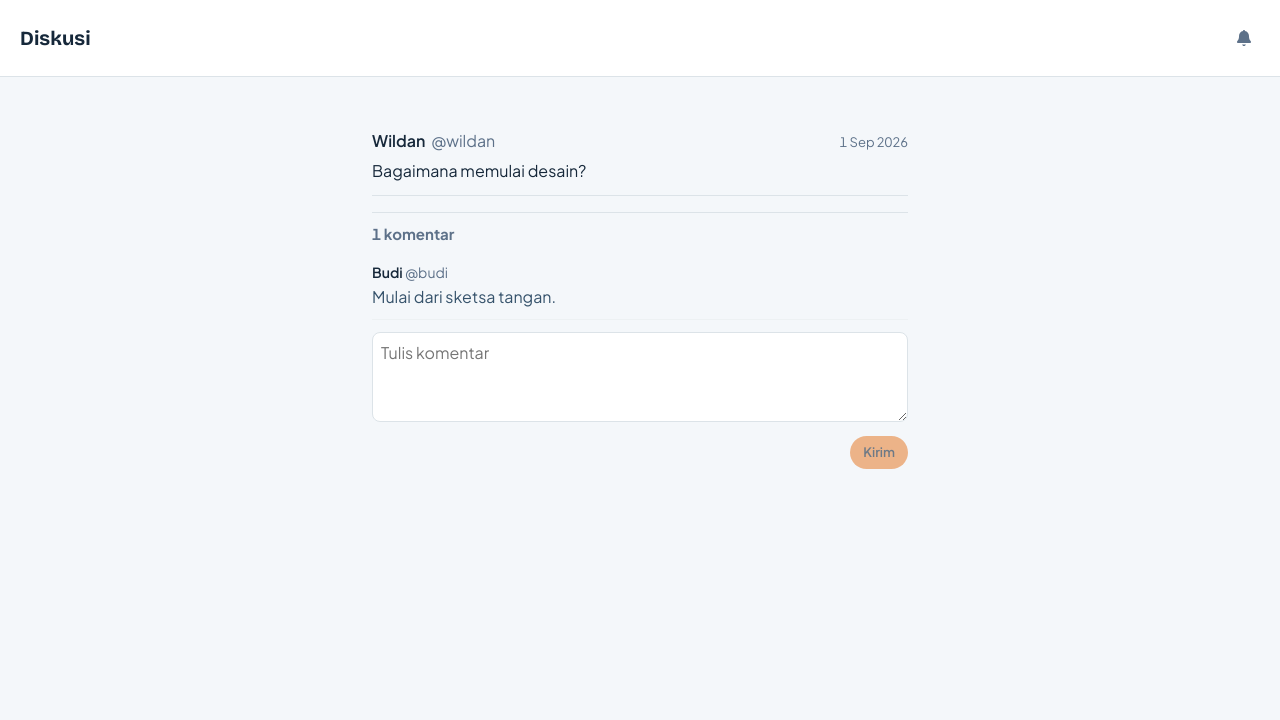
it: DiscussionPage › shows a submitted comment without a refetch
expect the text "Bagaimana memulai desain?" is shown: met, box x1=372 y1=160 x2=586 y2=181
Type "Terima kasih, sangat membantu." into the text box labelled "Tulis komentar" at [640, 377], box x1=372 y1=332 x2=908 y2=422
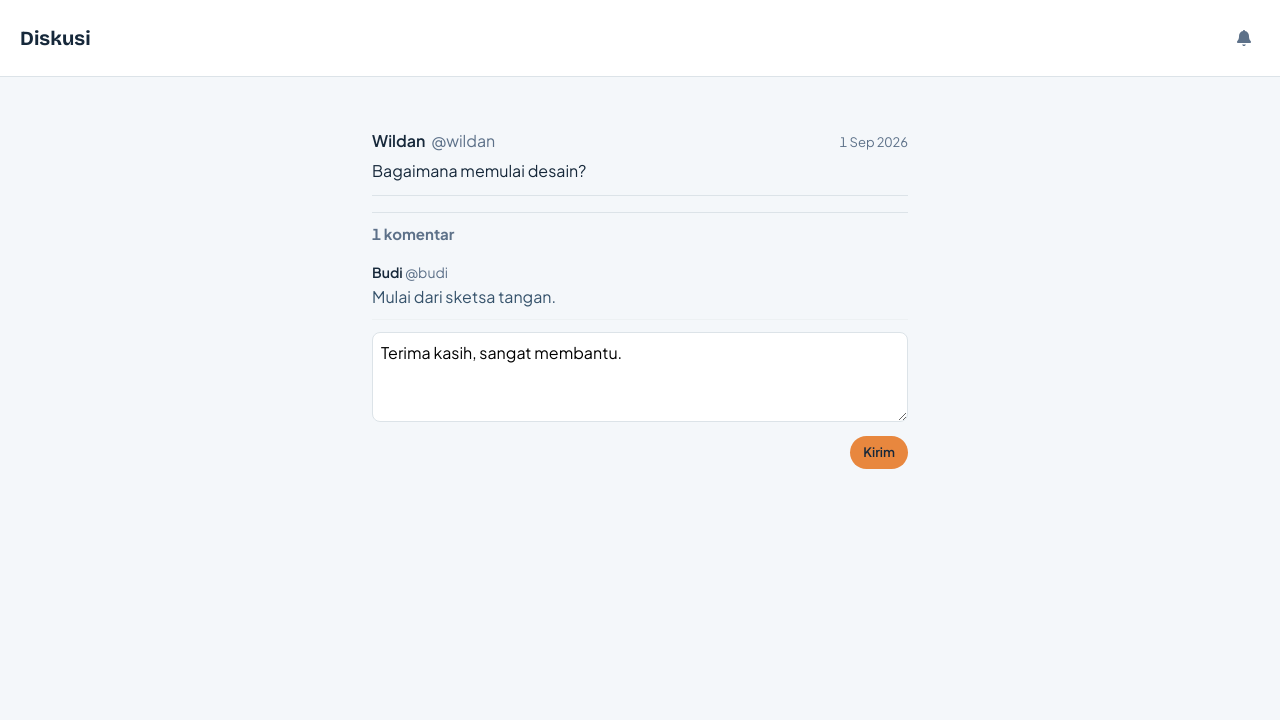
Click the button "Kirim" at [879, 453], box x1=850 y1=436 x2=908 y2=469
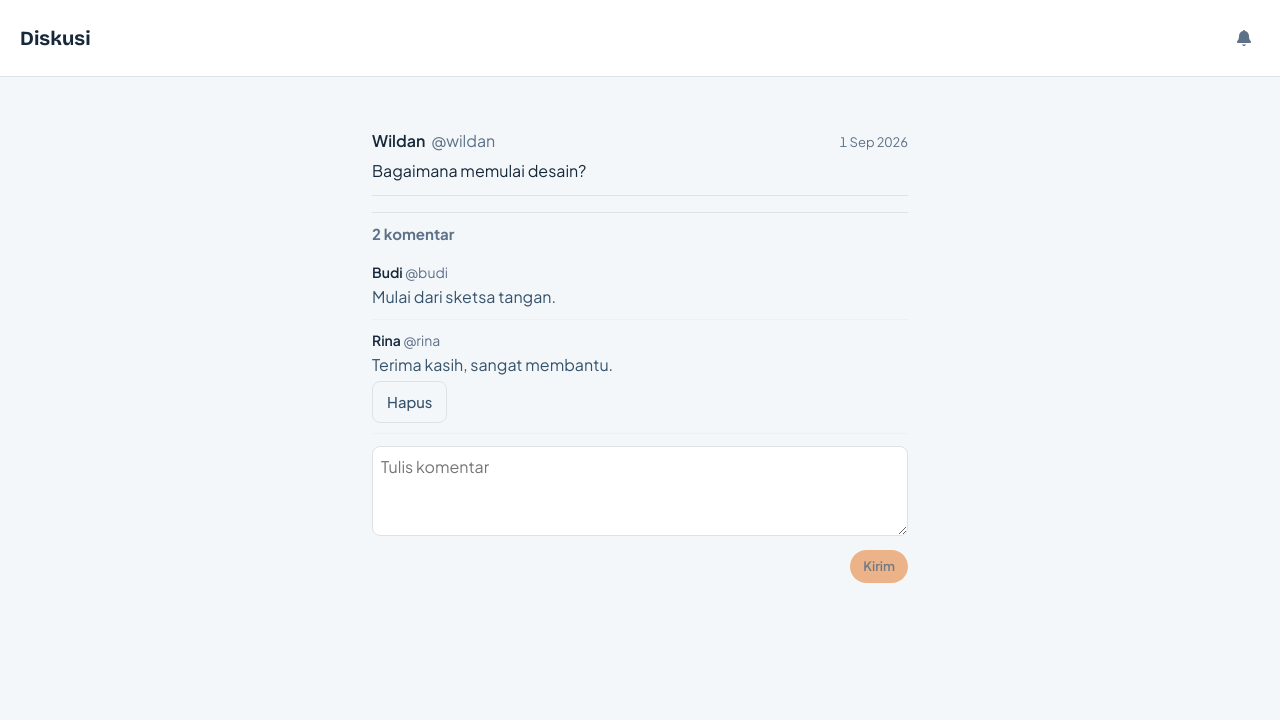
expect the number of list items is 2: met, box x1=372 y1=252 x2=908 y2=320; x1=372 y1=320 x2=908 y2=434
expect the list item "Rina @rina Terima kasih, sangat membantu. Hapus" is shown: met, box x1=372 y1=320 x2=908 y2=434
